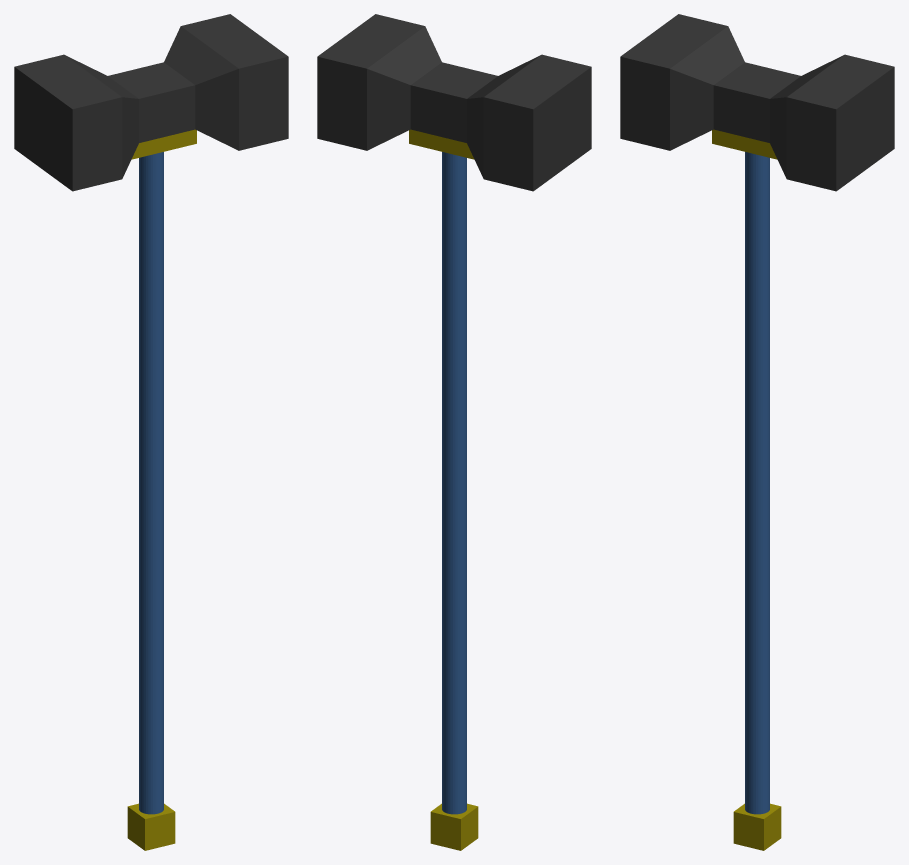
File: protoH2.fbx
3 views of the same model, side by side, from view 1: azimuth 30°, elevation 25°; view 2: azimuth 150°, elevation 25°; view 3: azimuth 330°, elevation 25° (orthographic).
Parts seen in each view (by area): view 1: Cube; view 2: Cube; view 3: Cube.
Part boxes in pixels (x1,y1,x2,y2): Cube: (14, 14, 288, 850); Cube: (317, 14, 591, 850); Cube: (620, 14, 894, 850).
Size of the model in its own units: 72.82 by 251 by 33.98.
